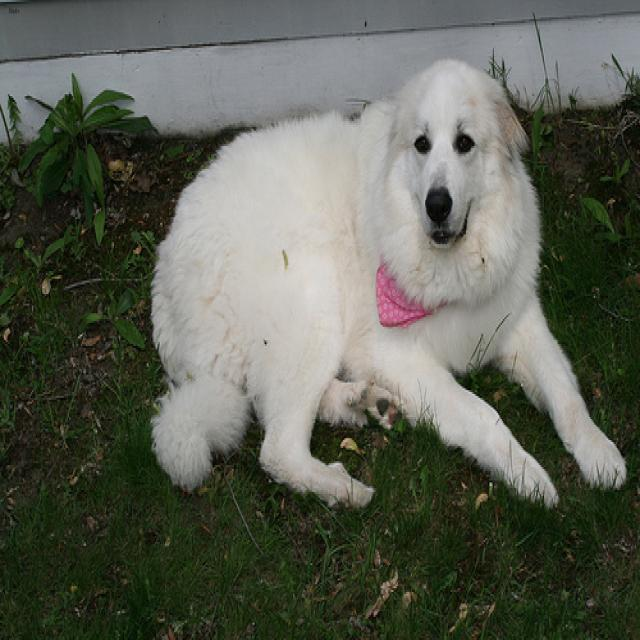dog-great_pyrenees: (142, 50, 631, 519)
